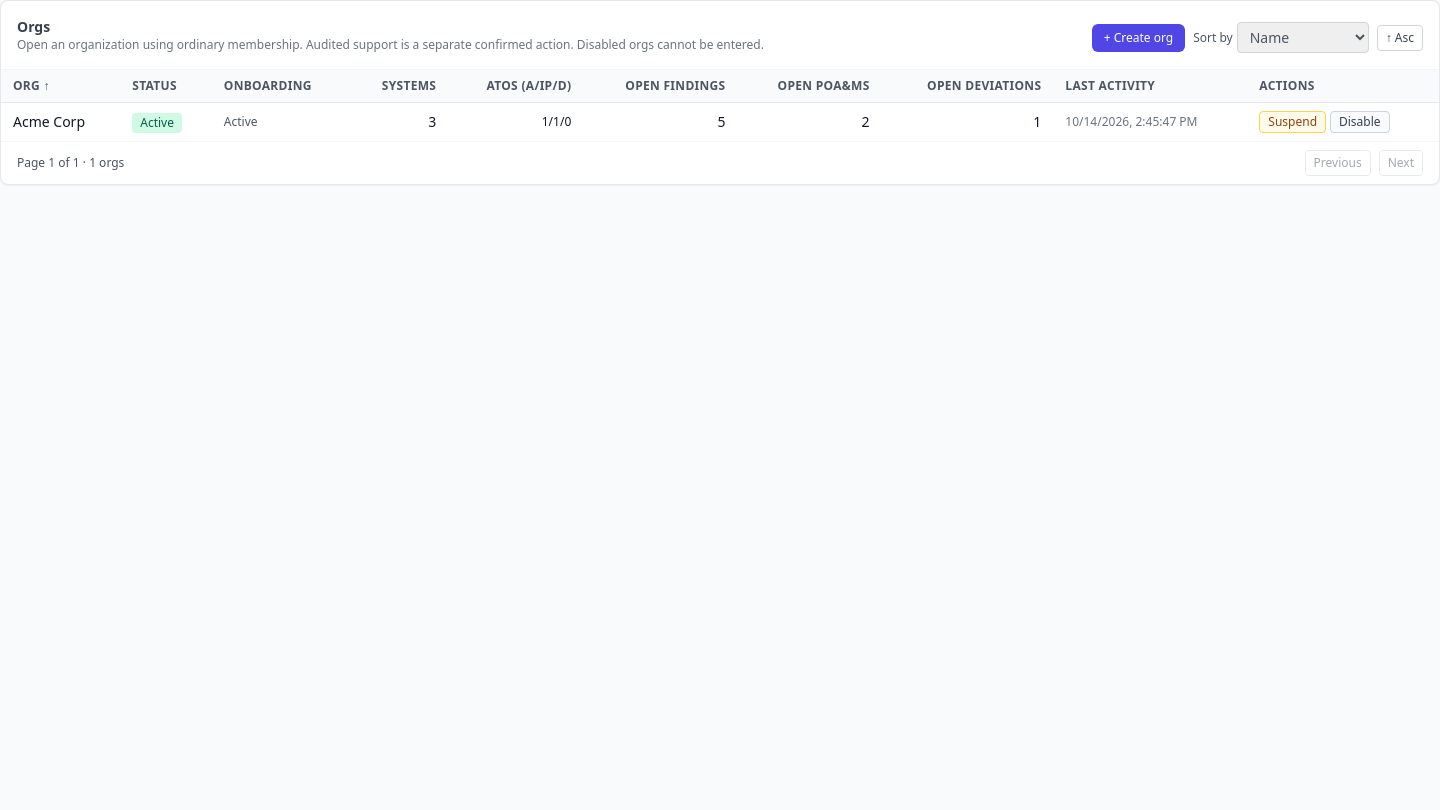
OrgsTable — confirmation dialogs (Wave 6 GAP-221-A) › clicking Disable opens a dialog with Disable heading
The width and height of the screenshot is (1440, 810).
Click the button "Disable" at (1360, 122), box [1330,111,1390,133]
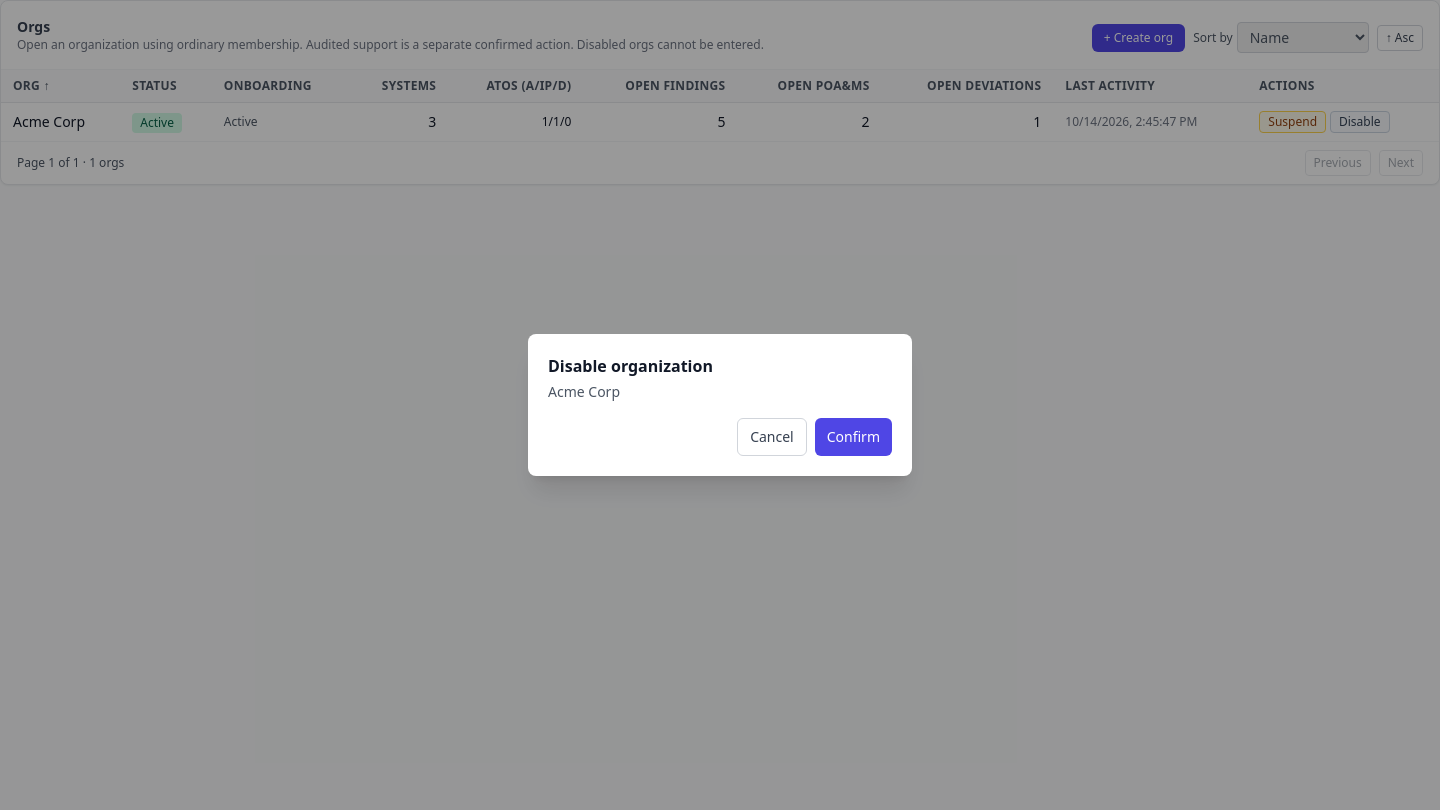
Expected: the dialog is shown
Expected: the dialog shows "Disable", [548,355,607,377]
